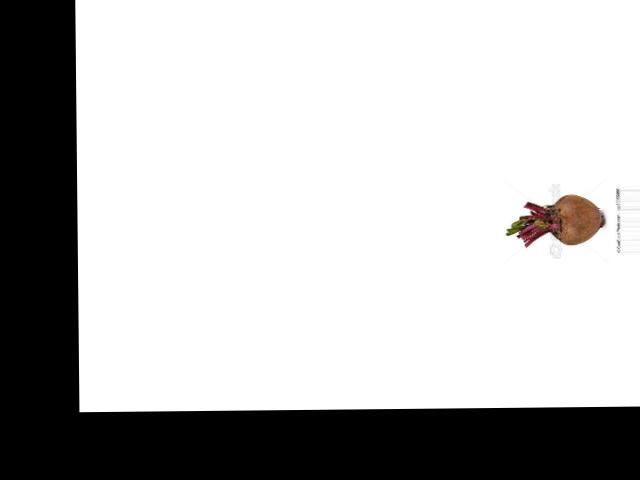beet: (506, 193, 604, 247)
